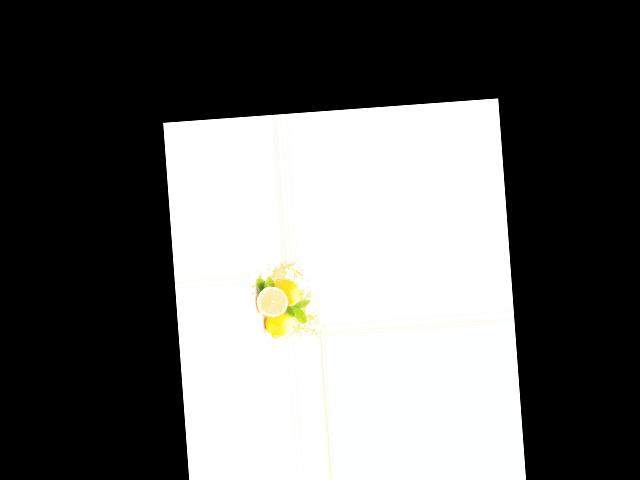lemon: (262, 305, 297, 337)
